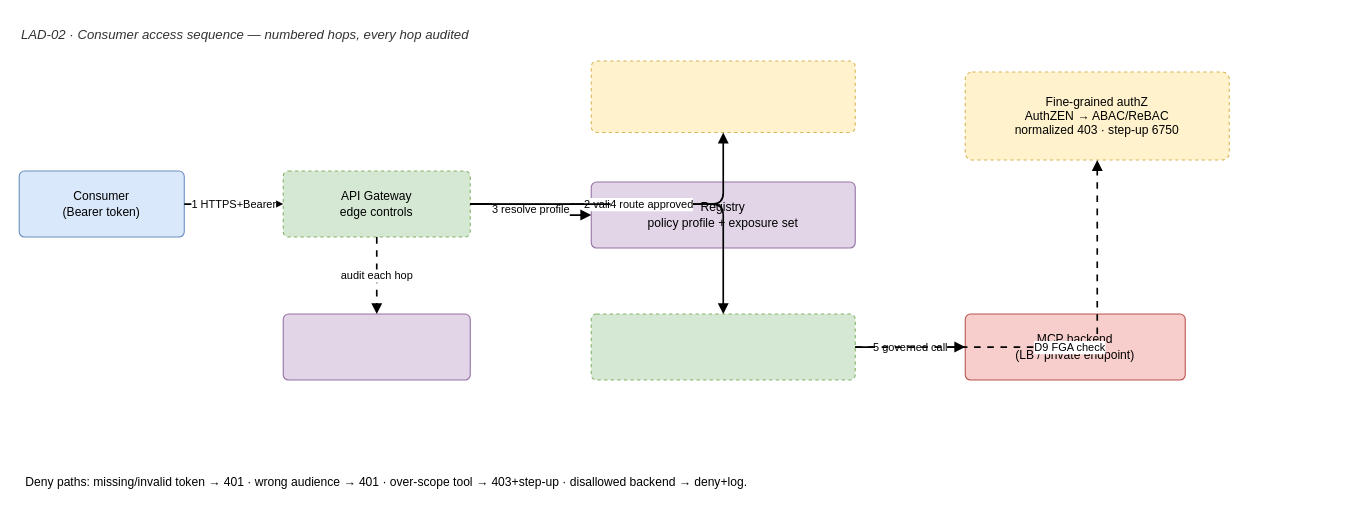
This 1359x530 diagram has some shape labels left out. Here are the shapes that lost their labels. From the top down, the box of each, then its label:
(590, 60, 855, 133): Token broker / IdP OAuth 2.1 · RFC 8693 · opaque
(282, 313, 470, 380): Audit request-ID + caller context
(590, 313, 855, 380): MCP proxy filtered tools/list · call gated
